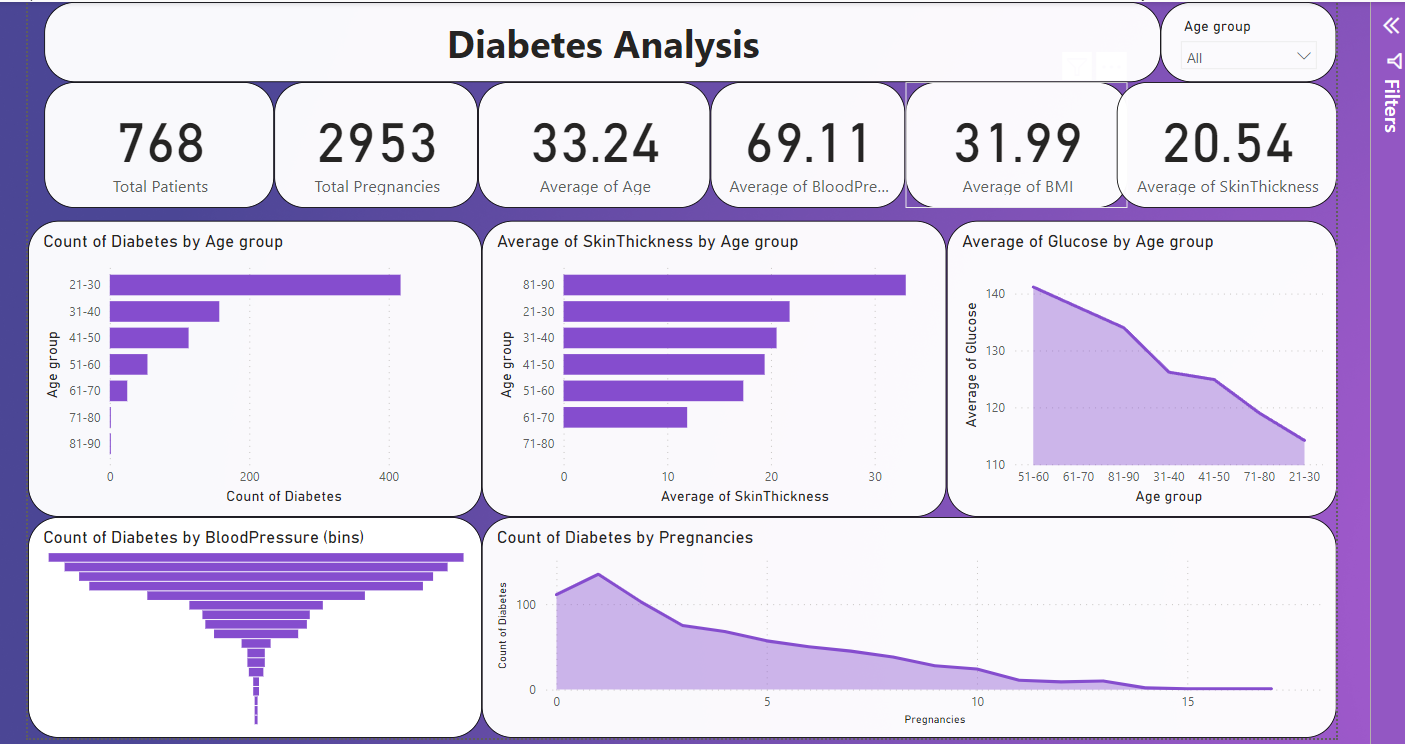

What the dashboard file says about the page in this screenshot:
{"tool":"powerbi","page":{"name":"Page 1","canvas":[1280,720],"ordinal":0},"visuals":[{"type":"clusteredBarChart","fields":{"Category":["diabetes.Age group"],"Y":["CountNonNull(diabetes.Diabetes)"]},"box":[0,213.9,443.7,289.7],"z":0},{"type":"clusteredBarChart","fields":{"Category":["diabetes.Age group"],"Y":["Avg(diabetes.SkinThickness)"]},"box":[443.7,213.9,454.7,289.7],"z":1000},{"type":"areaChart","fields":{"Y":["Avg(diabetes.Glucose)"],"Category":["diabetes.Age group"]},"box":[898.5,213.9,381.4,289.7],"z":2000},{"type":"areaChart","fields":{"Y":["CountNonNull(diabetes.Diabetes)"],"Category":["diabetes.Pregnancies"]},"box":[443.7,503.6,836.1,216.4],"z":3000},{"type":"funnel","fields":{"Category":["diabetes.BloodPressure (bins)"],"Y":["CountNonNull(diabetes.Diabetes)"]},"box":[0,503.6,443.7,216.4],"z":4000},{"type":"slicer","fields":{"Values":["diabetes.Age group"]},"box":[1107.5,0,172.4,78.2],"z":4001},{"type":"card","fields":{"Values":["diabetes.Total Patients"]},"box":[15.9,78.2,224.9,123.5],"z":4002},{"type":"card","fields":{"Values":["diabetes.Total Pregnancies"]},"box":[240.8,78.2,199.3,123.5],"z":4003},{"type":"card","fields":{"Values":["Avg(diabetes.Age)"]},"box":[440.1,78.2,227.4,123.5],"z":4004},{"type":"card","fields":{"Values":["Avg(diabetes.BloodPressure)"]},"box":[667.4,78.2,190.7,123.5],"z":4005},{"type":"card","fields":{"Values":["Avg(diabetes.BMI)"]},"box":[858.1,78.2,217.6,123.5],"z":4006},{"type":"card","fields":{"Values":["Avg(diabetes.SkinThickness)"]},"box":[1064.7,78.2,215.1,123.5],"z":4007},{"type":"textbox","box":[15.9,0,1091.6,78.2],"z":4008}]}

Visuals, with their boxes in screenshot pixels (x1, y1, x2, y2):
clusteredBarChart - diabetes.Age group x CountNonNull(diabetes.Diabetes): 26, 218, 477, 512
clusteredBarChart - diabetes.Age group x Avg(diabetes.SkinThickness): 477, 218, 940, 512
areaChart - Avg(diabetes.Glucose) x diabetes.Age group: 940, 218, 1328, 512
areaChart - CountNonNull(diabetes.Diabetes) x diabetes.Pregnancies: 477, 512, 1328, 732
funnel - diabetes.BloodPressure (bins) x CountNonNull(diabetes.Diabetes): 26, 512, 477, 732
slicer - diabetes.Age group: 1152, 0, 1328, 80
card - diabetes.Total Patients: 42, 80, 271, 205
card - diabetes.Total Pregnancies: 271, 80, 473, 205
card - Avg(diabetes.Age): 473, 80, 705, 205
card - Avg(diabetes.BloodPressure): 705, 80, 899, 205
card - Avg(diabetes.BMI): 899, 80, 1120, 205
card - Avg(diabetes.SkinThickness): 1109, 80, 1328, 205
textbox: 42, 0, 1152, 80
